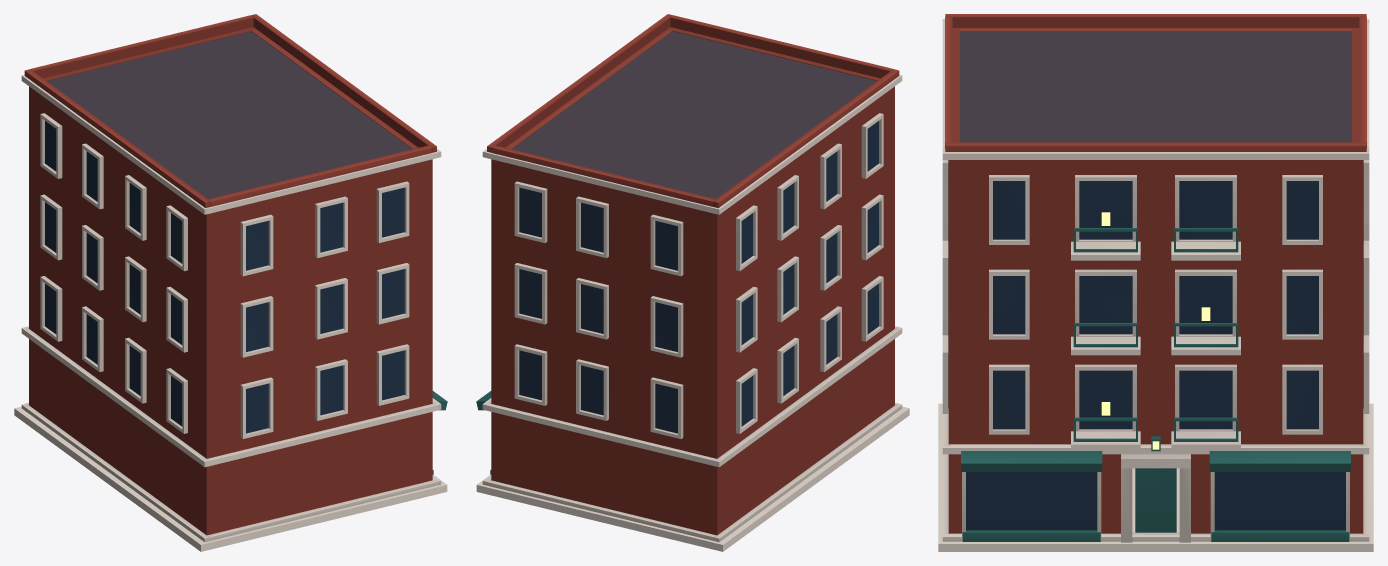
File: bld.apartment-block-a.lod2.glb
3 views of the same model, side by side, from view 1: azimuth 30°, elevation 25°; view 2: azimuth 150°, elevation 25°; view 3: azimuth 270°, elevation 25° (orthographic). The views are drawn at different scales.
Parts seen in each view (by area): view 1: body, roof; view 2: body, roof; view 3: body, roof, door_front.
Part boxes in pixels (x1=…): body: x1=14, y1=14, x2=447, y2=551; roof: x1=47, y1=31, x2=412, y2=198; body: x1=476, y1=14, x2=909, y2=551; roof: x1=511, y1=31, x2=876, y2=198; body: x1=938, y1=14, x2=1373, y2=551; roof: x1=960, y1=32, x2=1351, y2=142; door_front: x1=1135, y1=468, x2=1176, y2=532.
Size of the model in its own units: 10.3 by 12.85 by 12.6.
